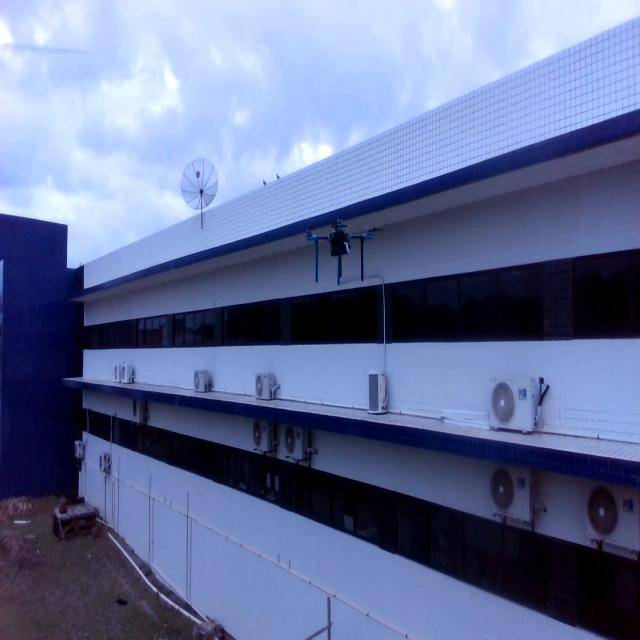-uav-: (296, 201, 386, 289)
